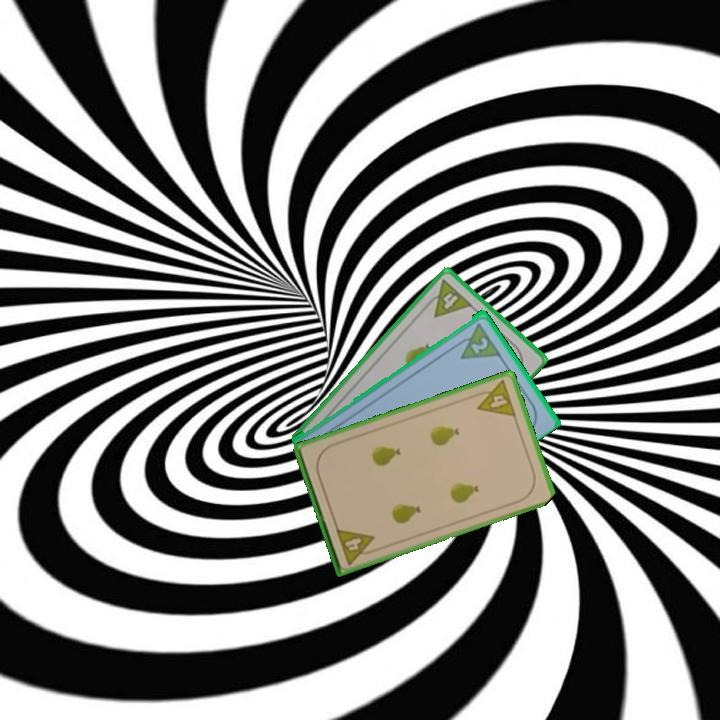2p: (467, 333, 491, 356)
4p: (420, 276, 475, 320), (470, 376, 519, 420), (332, 524, 380, 567)
